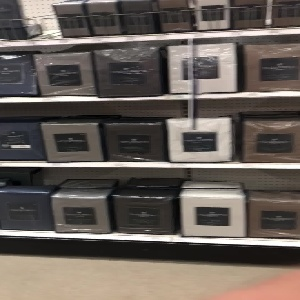void: (24, 1, 60, 38)
